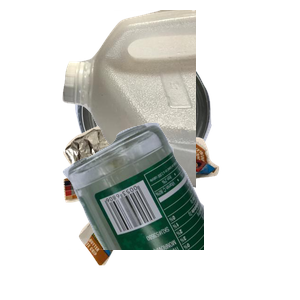glass: (60, 120, 300, 300)
metal: (73, 42, 277, 212)
plastic: (60, 10, 300, 190)
trash: (61, 123, 273, 300)
